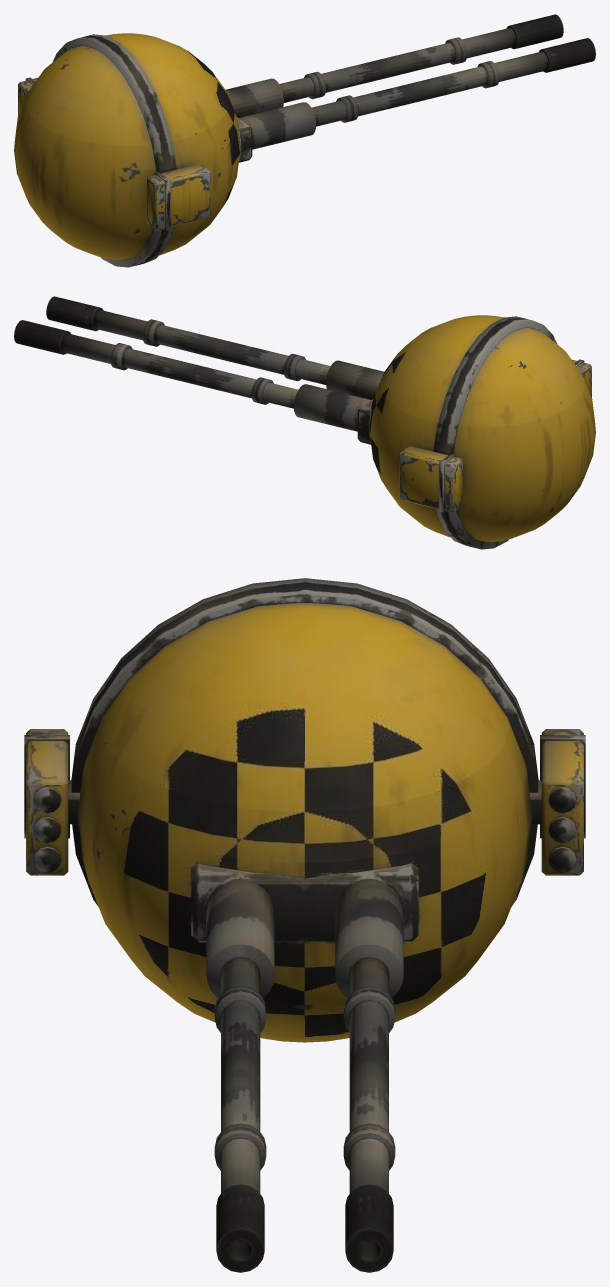
File: turret_kit_tail_ball_t1_chequer.glb
The picture shows the model from 3 angles, top to bottom: view 1: azimuth 30°, elevation 25°; view 2: azimuth 150°, elevation 25°; view 3: azimuth 270°, elevation 25°; orthographic projection. The views are drawn at different scales.
Visible parts, largest first — view 1: turret_tail_ball_t1, pods; view 2: turret_tail_ball_t1, pods; view 3: turret_tail_ball_t1, pods.
Part boxes in pixels (x1=…): turret_tail_ball_t1: x1=14, y1=14, x2=595, y2=267; pods: x1=18, y1=77, x2=210, y2=230; turret_tail_ball_t1: x1=14, y1=296, x2=595, y2=549; pods: x1=399, y1=359, x2=591, y2=512; turret_tail_ball_t1: x1=71, y1=578, x2=538, y2=1272; pods: x1=24, y1=729, x2=585, y2=875.
Bounding box in the file's own units: 1.66 × 0.62 × 0.7402.
2 materials, 2 textured.
